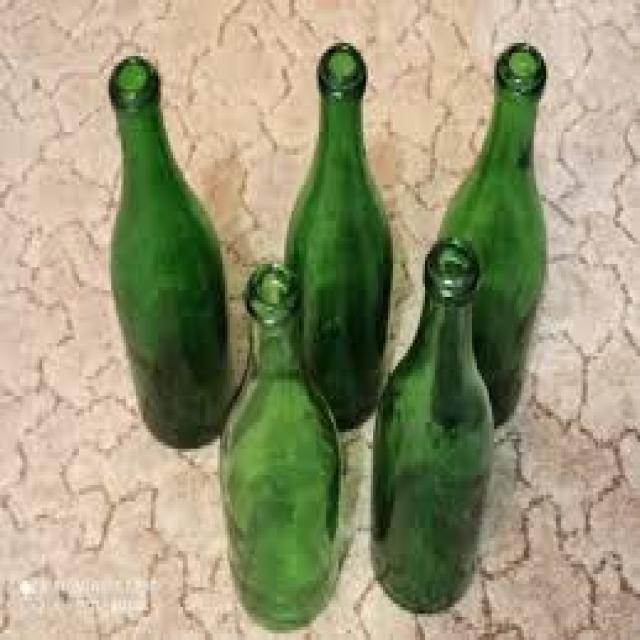glass: (106, 56, 230, 445), (371, 235, 492, 611), (217, 258, 341, 624), (435, 40, 546, 426), (282, 39, 390, 429)
